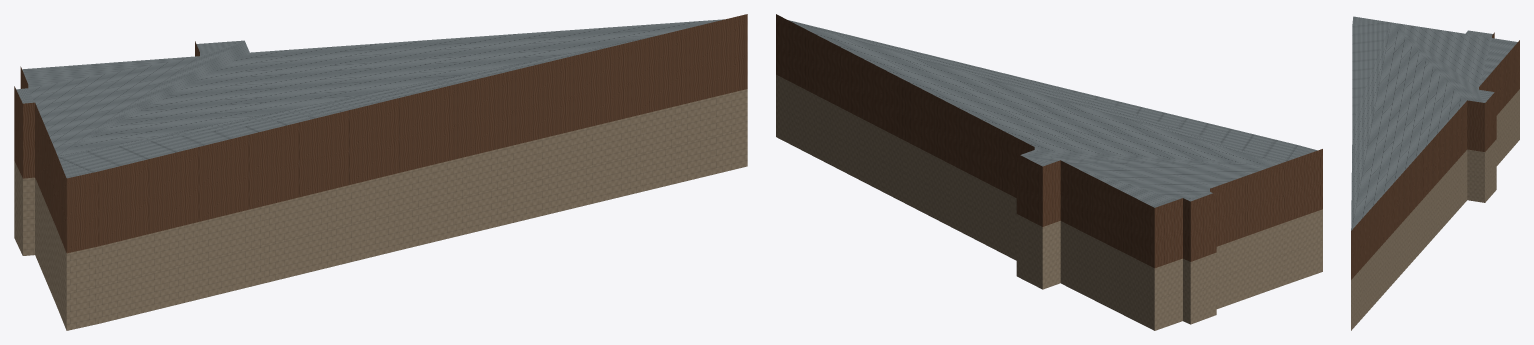
The model's file is bld_c4_-2_554.gltf.
The picture shows the model from 3 angles, left to right: view 1: azimuth 30°, elevation 25°; view 2: azimuth 150°, elevation 25°; view 3: azimuth 270°, elevation 25°; orthographic projection. The views are drawn at different scales.
Visible parts, largest first — view 1: bld_c4_-2_554; view 2: bld_c4_-2_554; view 3: bld_c4_-2_554.
Part boxes in pixels (bbox=[...]): bld_c4_-2_554: bbox=[14, 14, 747, 330]; bld_c4_-2_554: bbox=[776, 14, 1322, 330]; bld_c4_-2_554: bbox=[1351, 16, 1519, 330].
Bounding box in the file's own units: 45.59 × 9.78 × 14.98.
Materials: 4 (4 with a texture image).
